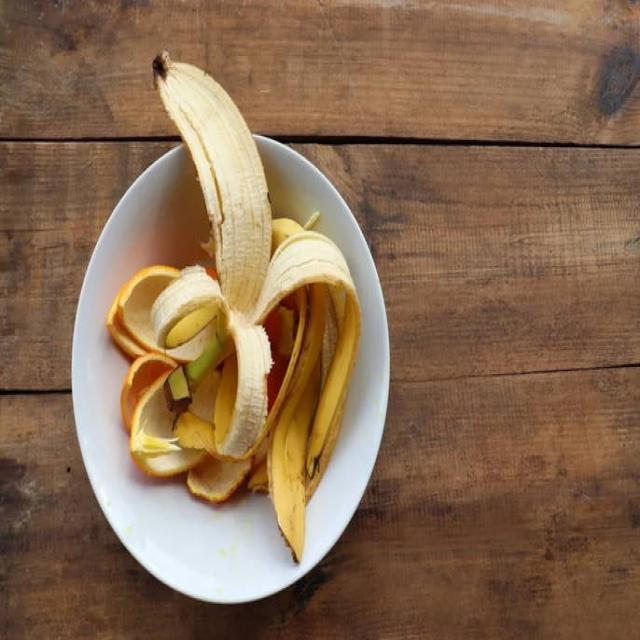banana_peel: (134, 33, 357, 494)
